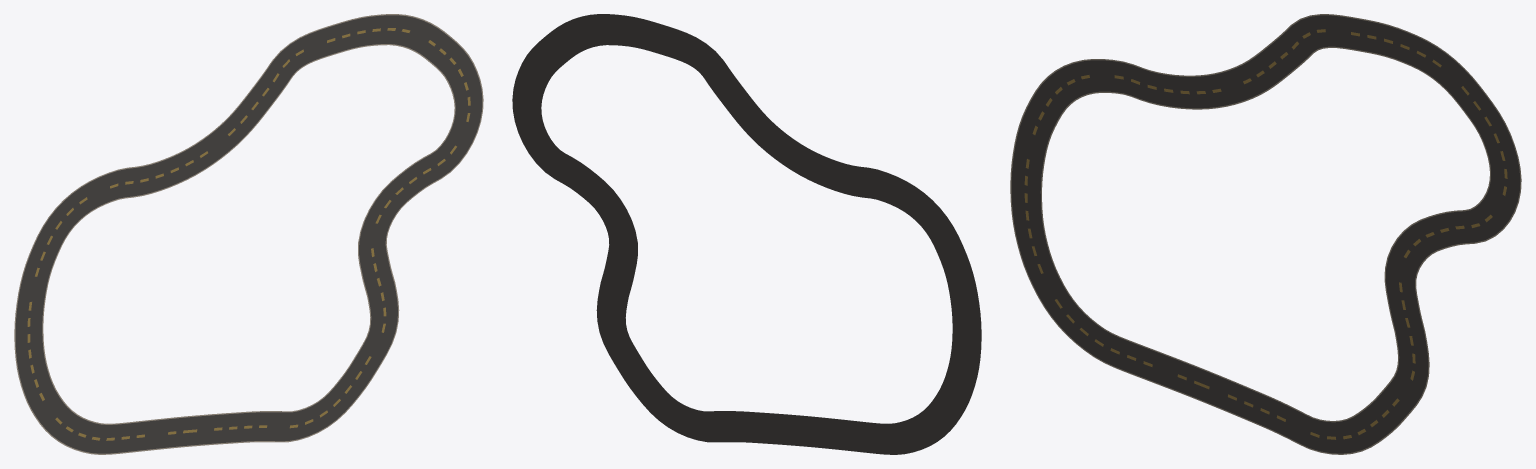
File: track.obj
3 views of the same model, side by side, from view 1: azimuth 30°, elevation 25°; view 2: azimuth 150°, elevation 25°; view 3: azimuth 330°, elevation 25° (orthographic). The views are drawn at different scales.
Size of the model in its own units: 17.25 by 14.35 by 0.002.
